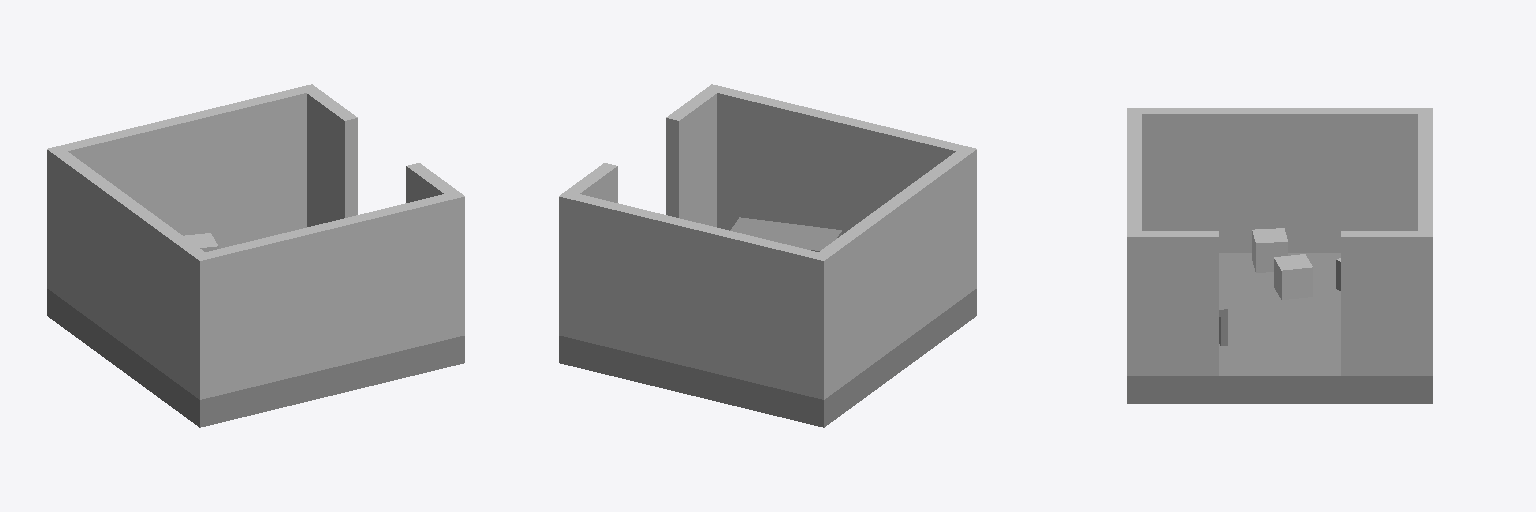
File: big-room_3.obj
3 views of the same model, side by side, from view 1: azimuth 30°, elevation 25°; view 2: azimuth 150°, elevation 25°; view 3: azimuth 270°, elevation 25° (orthographic).
Parts seen in each view (by area): view 1: Cube.004, Cube; view 2: Cube.004, Cube, Cube.001; view 3: Cube.004, Cube, Cube.003_Cube.000, Cube_Cube.000.
Part boxes in pixels (left/top/right/bottom): Cube.004: left=47, top=84, right=464, bottom=399; Cube: left=47, top=289, right=464, bottom=427; Cube.004: left=559, top=84, right=976, bottom=399; Cube: left=559, top=289, right=976, bottom=427; Cube.001: left=730, top=217, right=841, bottom=251; Cube.004: left=1127, top=108, right=1432, bottom=375; Cube: left=1127, top=253, right=1432, bottom=403; Cube.003_Cube.000: left=1274, top=254, right=1312, bottom=299; Cube_Cube.000: left=1252, top=228, right=1287, bottom=272.
Size of the model in its own units: 10 by 6 by 10.